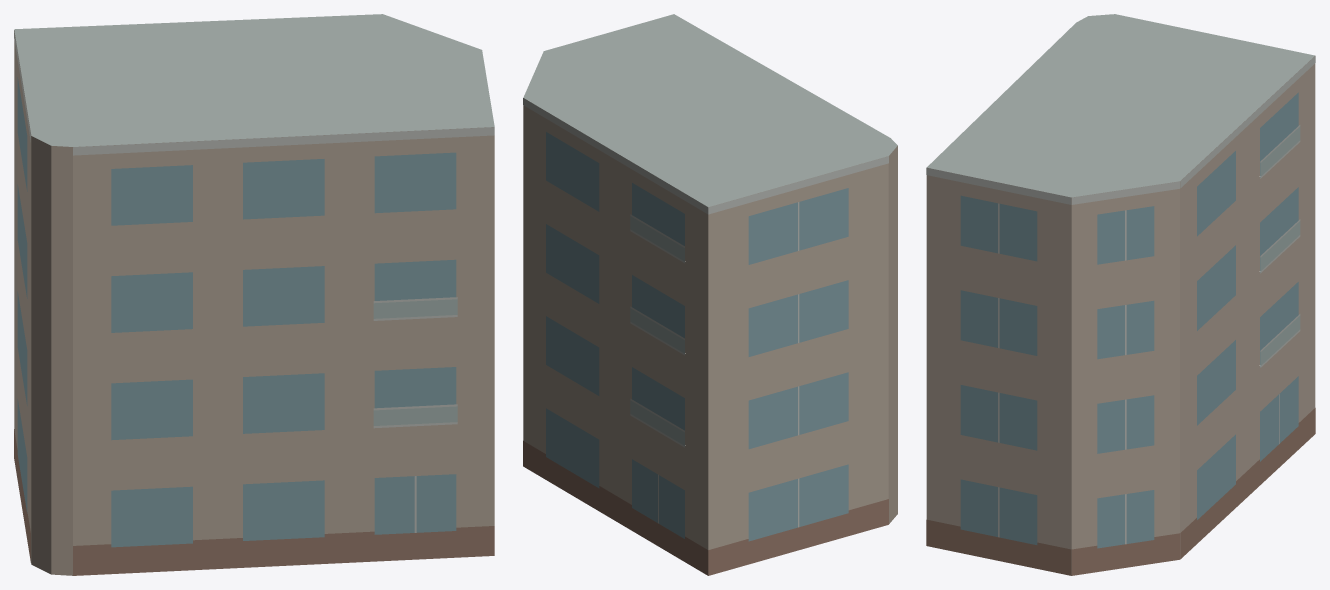
Rendered from survey-upis-32733885.glb.
3 renders of one model, left to right at view 1: azimuth 30°, elevation 25°; view 2: azimuth 150°, elevation 25°; view 3: azimuth 270°, elevation 25°, orthographic. The views are drawn at different scales.
Parts seen in each view (by area): view 1: survey-upis-32733885.tmp; view 2: survey-upis-32733885.tmp; view 3: survey-upis-32733885.tmp.
Boxes of the visible parts, bbox=[...] form: survey-upis-32733885.tmp: bbox=[14, 14, 494, 575]; survey-upis-32733885.tmp: bbox=[523, 14, 897, 575]; survey-upis-32733885.tmp: bbox=[926, 14, 1315, 575].
Bounding box in the file's own units: 12.8 × 12.3 × 11.47.
